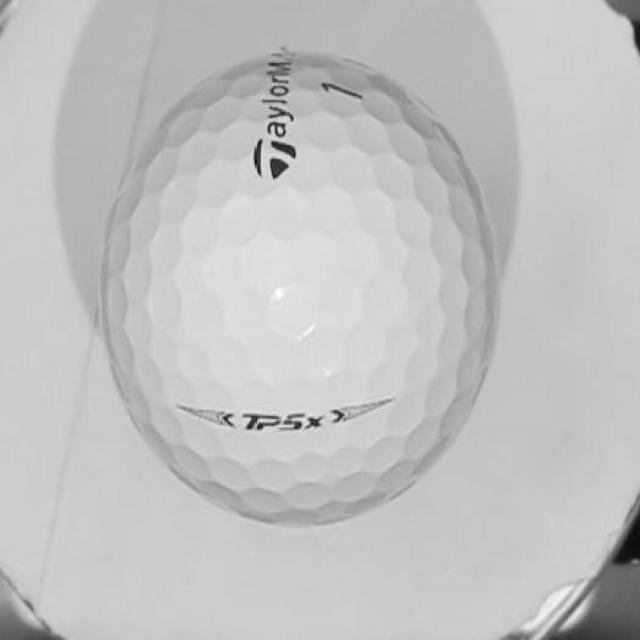golfball: (96, 47, 505, 524), (284, 408, 324, 436)
